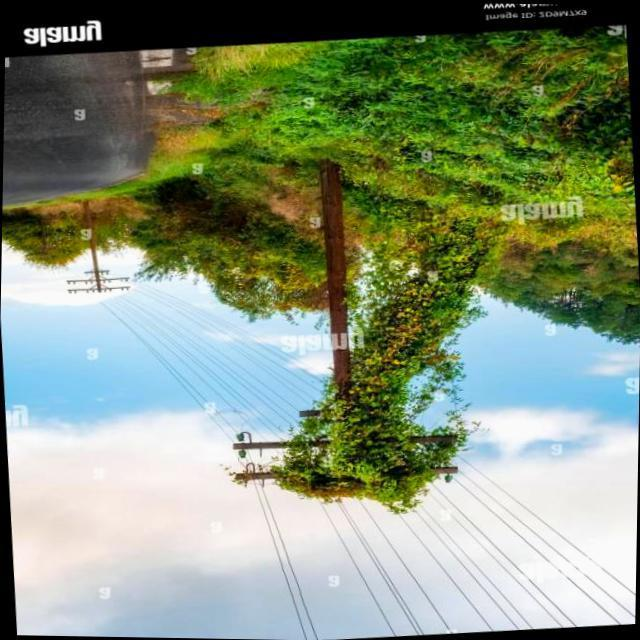critical vegetation: (212, 308, 489, 510)
